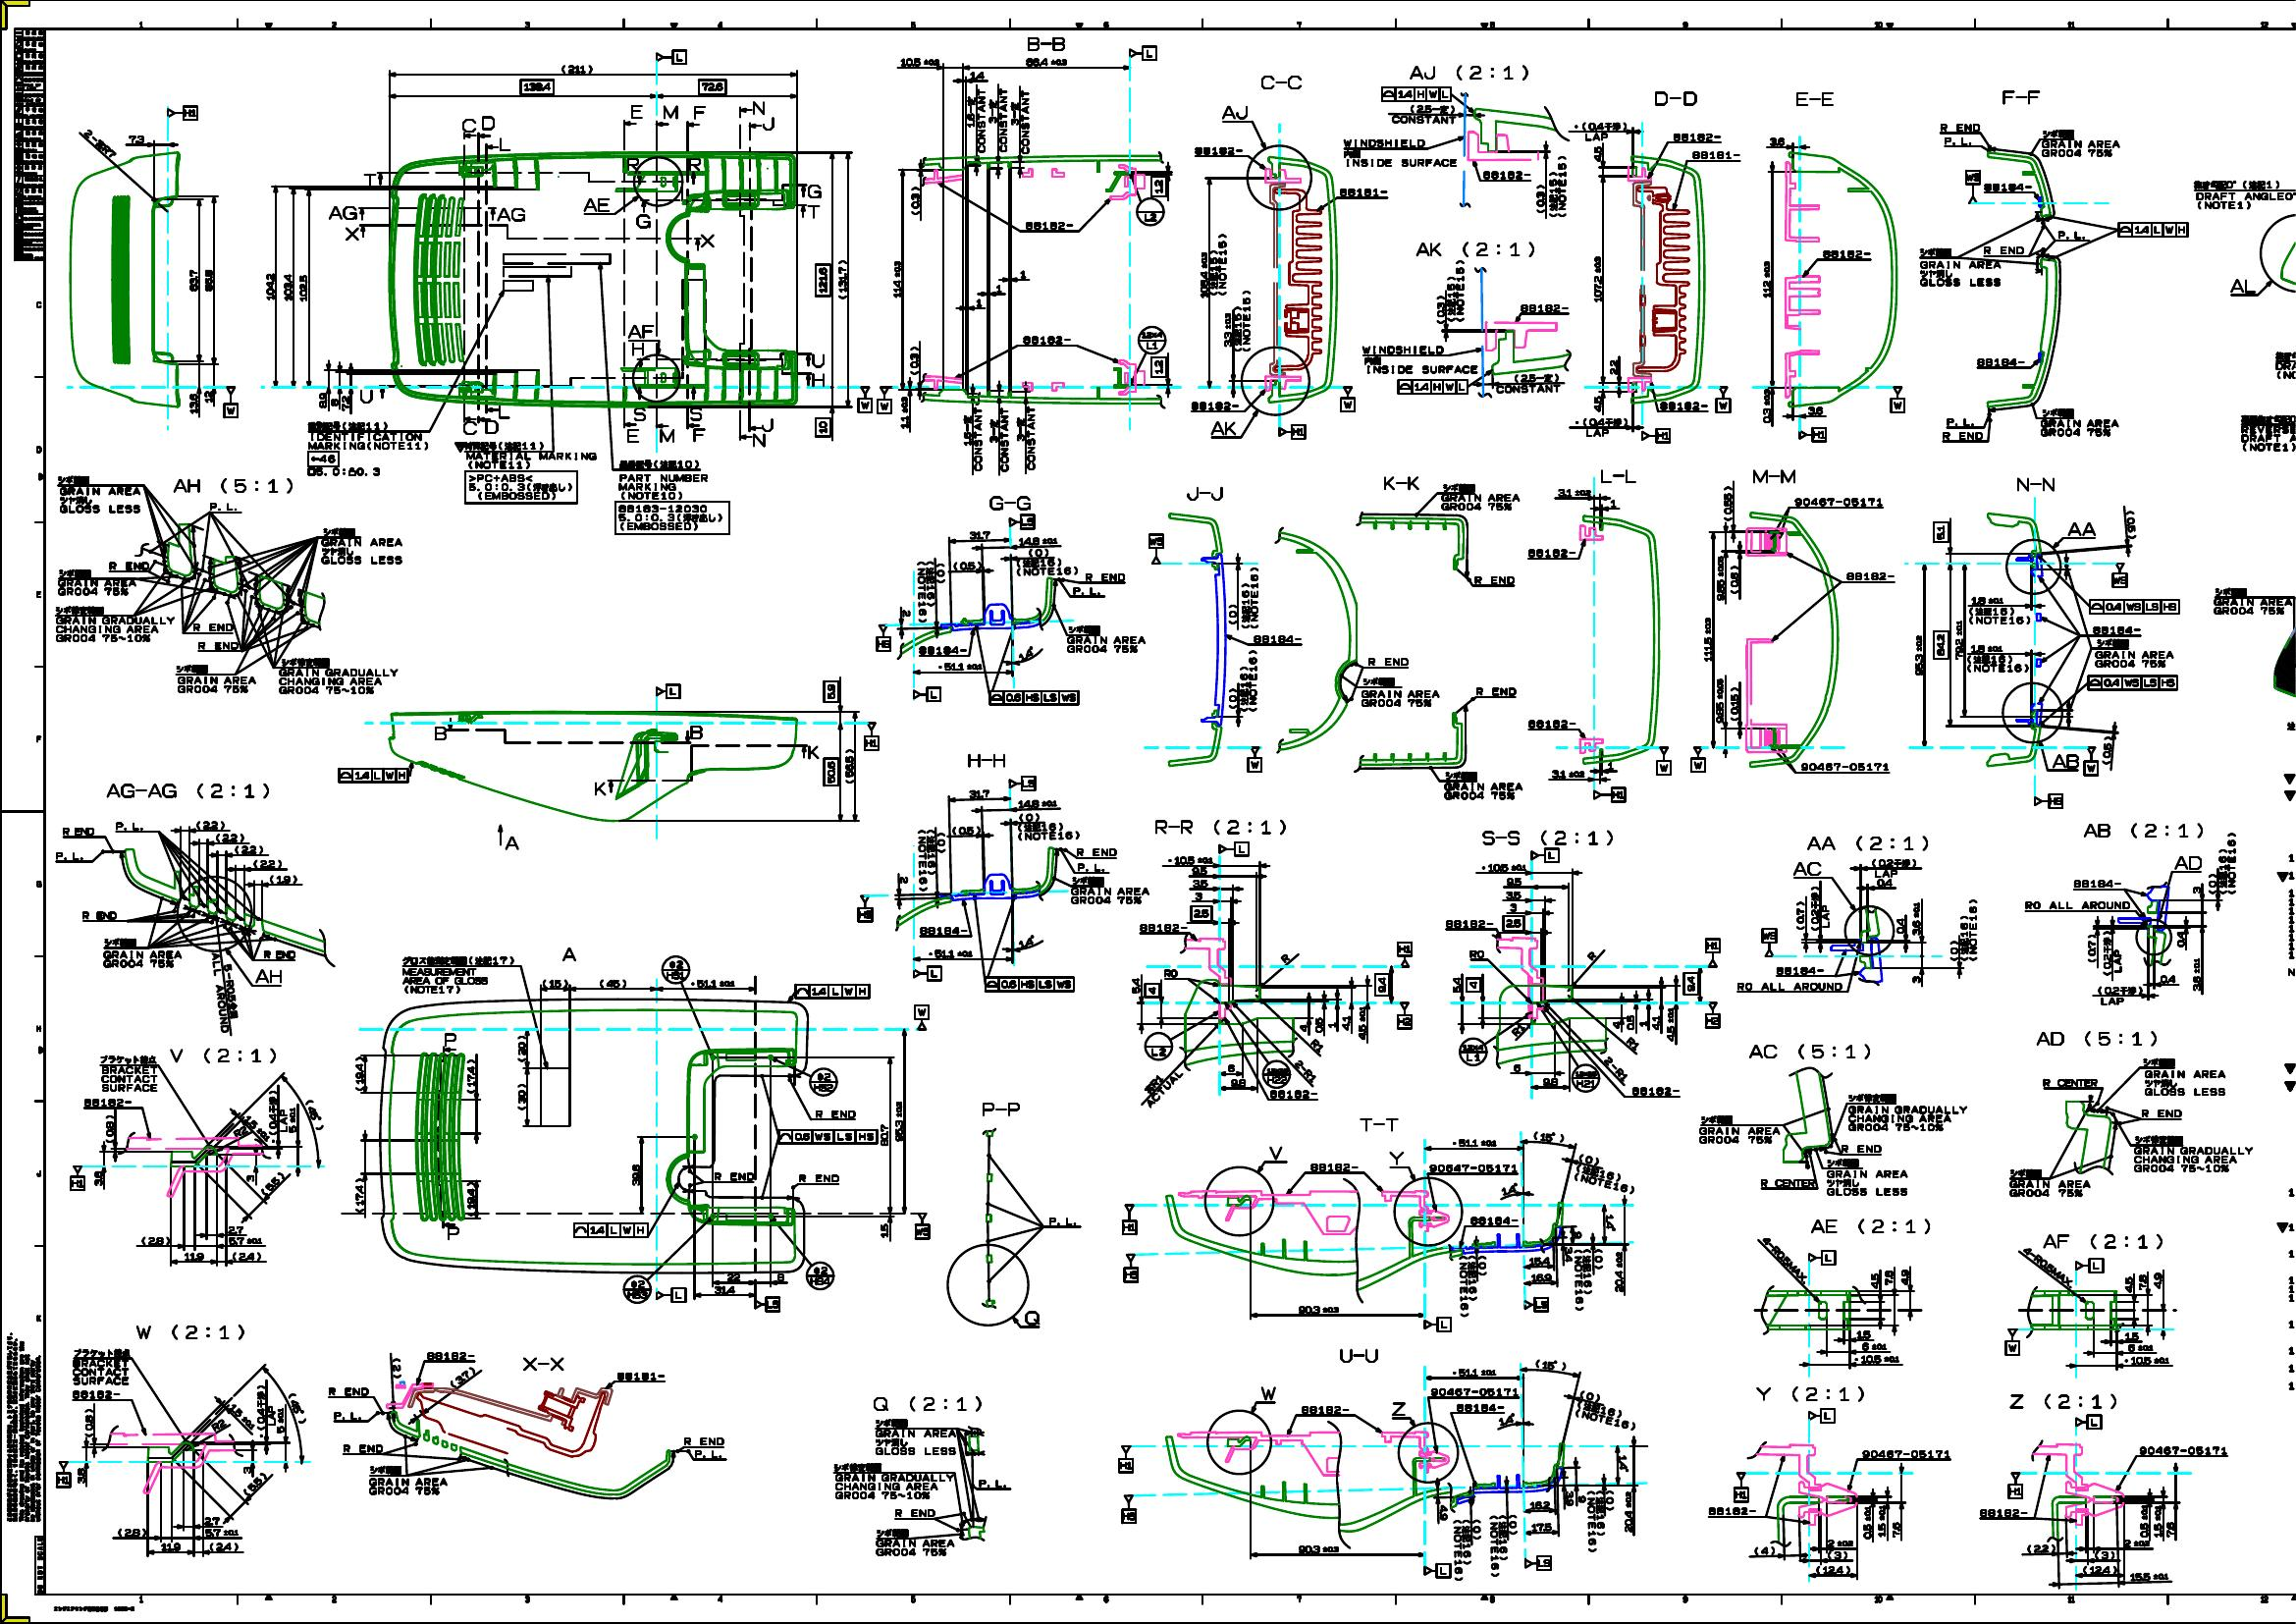anntotation_text: (451, 438, 597, 506), (613, 457, 731, 534), (306, 420, 429, 478), (4, 1332, 40, 1522), (1846, 1091, 1969, 1132), (2133, 1134, 2254, 1174), (279, 657, 399, 696), (54, 606, 177, 643), (833, 1461, 956, 1497), (402, 956, 515, 995), (1342, 137, 1458, 169), (2141, 1056, 2227, 1098), (104, 780, 272, 801), (1360, 344, 1477, 374), (1918, 246, 2001, 288), (56, 473, 141, 513), (2192, 179, 2296, 211), (1825, 1158, 1910, 1197), (873, 1417, 956, 1455), (321, 526, 404, 564), (2040, 406, 2122, 441), (1151, 817, 1288, 838), (2212, 584, 2296, 617), (1442, 768, 1523, 801), (2092, 636, 2175, 668), (2083, 819, 2206, 840), (1695, 1114, 1781, 1144), (1070, 875, 1151, 907), (102, 937, 183, 968), (97, 1053, 160, 1093), (1809, 1216, 1929, 1237), (56, 568, 139, 598), (2008, 1167, 2090, 1197), (1360, 677, 1440, 707), (367, 1464, 448, 1494), (2041, 128, 2122, 158), (2034, 1028, 2159, 1048), (1412, 239, 1535, 258), (1407, 63, 1530, 83), (2041, 1232, 2164, 1251), (2240, 413, 2296, 455), (1481, 830, 1614, 847), (174, 664, 256, 692), (873, 1527, 956, 1555), (70, 1348, 130, 1387), (1439, 482, 1518, 510), (1751, 1383, 1866, 1403), (170, 476, 295, 494), (1748, 1044, 1873, 1062), (165, 1044, 278, 1063), (1066, 626, 1147, 652), (871, 1394, 984, 1411), (1806, 835, 1931, 851), (2008, 1392, 2119, 1410), (134, 1323, 244, 1341), (778, 1127, 878, 1144), (214, 951, 235, 1032), (2087, 673, 2178, 691), (989, 691, 1080, 707), (982, 975, 1073, 991), (2089, 599, 2180, 615), (1231, 286, 1253, 353), (1015, 404, 1036, 471), (966, 88, 987, 155), (1451, 1519, 1472, 1584), (1488, 1513, 1509, 1578), (1391, 104, 1455, 125), (1572, 1169, 1635, 1190), (1238, 647, 1258, 714), (1012, 88, 1031, 155), (917, 826, 936, 893), (1015, 557, 1080, 576), (1495, 373, 1560, 392), (1446, 258, 1465, 323), (1209, 230, 1228, 295), (991, 406, 1010, 471), (964, 408, 984, 473), (1959, 896, 1978, 961), (1397, 378, 1467, 395), (1574, 1248, 1593, 1311), (1458, 1255, 1477, 1318), (915, 559, 935, 622), (1240, 566, 1260, 629), (1586, 1489, 1606, 1552), (1967, 606, 2031, 626), (1548, 155, 1567, 216), (1574, 1406, 1635, 1425), (1572, 415, 1628, 436), (1572, 120, 1628, 141), (2219, 831, 2236, 898), (2022, 900, 2131, 910), (2136, 1443, 2229, 1455), (1017, 823, 1082, 840), (1966, 656, 2031, 673), (1736, 981, 1843, 991), (337, 766, 408, 782), (1381, 86, 1451, 102), (989, 88, 1007, 151), (1426, 1162, 1516, 1174), (1860, 1448, 1950, 1461), (794, 984, 871, 998), (2117, 221, 2185, 237), (1430, 1385, 1518, 1397), (573, 1223, 648, 1237), (1133, 1074, 1188, 1093), (255, 1383, 274, 1438), (267, 1090, 286, 1144), (2097, 984, 2143, 1007), (805, 1260, 836, 1292), (2101, 930, 2122, 975), (1750, 466, 1799, 485), (1456, 1035, 1488, 1065), (1570, 1062, 1600, 1093), (622, 1274, 653, 1304), (1794, 496, 1883, 506), (1809, 886, 1830, 930), (1651, 88, 1699, 107), (808, 1065, 838, 1095), (1871, 858, 1917, 877), (661, 954, 689, 984), (1137, 325, 1166, 353), (1137, 197, 1165, 227), (1144, 1032, 1173, 1060), (1261, 1058, 1291, 1086), (1258, 74, 1303, 91), (1799, 763, 1890, 772), (1999, 88, 2040, 107), (1249, 633, 1303, 647), (964, 750, 1007, 768), (1792, 90, 1834, 107), (2275, 348, 2296, 383), (1688, 148, 1739, 162), (1358, 1116, 1398, 1134), (980, 1100, 1021, 1118), (2015, 475, 2055, 492), (1337, 1346, 1381, 1362), (1760, 1178, 1816, 1190), (1186, 485, 1224, 503), (1026, 35, 1065, 53), (1843, 569, 1897, 582), (1751, 1255, 1815, 1265), (522, 1355, 564, 1371), (1822, 248, 1869, 262), (917, 643, 970, 656), (1599, 466, 1635, 483), (987, 496, 1033, 510), (2017, 1260, 2076, 1271), (1518, 302, 1569, 315), (1481, 169, 1532, 181), (1189, 399, 1240, 411), (1021, 334, 1072, 346), (1708, 1504, 1758, 1517), (1630, 1084, 1681, 1097), (2073, 877, 2124, 889), (1657, 399, 1708, 411), (1383, 475, 1421, 490), (2227, 278, 2259, 297), (1527, 547, 1576, 559), (1022, 220, 1072, 232), (2041, 1077, 2097, 1088), (655, 47, 689, 65), (494, 206, 527, 223), (53, 1605, 135, 1612), (1147, 533, 1165, 564), (1732, 1471, 1750, 1503), (167, 104, 199, 121), (255, 967, 283, 986), (105, 559, 149, 571), (1472, 575, 1516, 587), (1982, 244, 2025, 257), (1193, 146, 1244, 156), (1337, 186, 1388, 197), (1455, 1403, 1505, 1413), (1774, 965, 1825, 975), (615, 1369, 666, 1380), (655, 1287, 689, 1302), (1121, 1204, 1138, 1234), (912, 685, 942, 703), (581, 197, 611, 214), (2050, 752, 2080, 770), (2034, 791, 2064, 808), (1527, 719, 1576, 729), (1075, 845, 1117, 858), (917, 924, 966, 935), (1138, 923, 1188, 933), (1300, 1404, 1349, 1415), (1268, 1088, 1318, 1098), (1444, 917, 1493, 928), (425, 1350, 474, 1360), (72, 1388, 121, 1399), (1672, 132, 1722, 142), (1983, 181, 2032, 192), (1941, 431, 1983, 443), (35, 1536, 44, 1594), (1470, 1214, 1518, 1225), (1593, 786, 1625, 801), (2092, 624, 2140, 634), (1655, 747, 1672, 775), (1339, 385, 1356, 413), (1209, 420, 1237, 438), (875, 385, 892, 413), (856, 895, 873, 923), (2006, 1471, 2024, 1499), (1808, 1406, 1836, 1424), (2075, 1257, 2103, 1274), (195, 640, 241, 650), (682, 1436, 727, 1446), (1688, 747, 1708, 772), (79, 909, 118, 921), (1219, 842, 1249, 858), (1121, 1494, 1137, 1524), (1760, 928, 1776, 958), (913, 1211, 929, 1241), (329, 204, 358, 220), (1966, 169, 1980, 202), (873, 624, 891, 650), (1474, 685, 1518, 696), (2003, 1329, 2020, 1355), (813, 1109, 857, 1120), (796, 1172, 840, 1183), (754, 1295, 780, 1313), (892, 1506, 936, 1517), (327, 1387, 371, 1397), (54, 1461, 72, 1487), (627, 322, 653, 339), (1307, 1162, 1358, 1171), (1975, 357, 2025, 366), (1423, 1316, 1451, 1332), (863, 722, 878, 750), (1008, 513, 1036, 529), (1084, 571, 1126, 582), (1367, 656, 1409, 666), (1128, 46, 1156, 62), (1008, 775, 1036, 791), (913, 965, 942, 981), (1117, 1445, 1133, 1473), (2173, 854, 2201, 870), (2141, 1107, 2184, 1118), (1841, 1142, 1883, 1153), (1808, 1250, 1836, 1265), (913, 1004, 929, 1032), (341, 1443, 383, 1454), (223, 385, 237, 417), (655, 682, 680, 700), (1245, 747, 1263, 772), (69, 1165, 86, 1190), (713, 1171, 754, 1181), (191, 622, 232, 633), (1939, 121, 1980, 132), (1704, 937, 1718, 967), (1792, 861, 1822, 875), (1523, 1297, 1549, 1313), (1221, 105, 1247, 121), (1279, 424, 1305, 439), (1397, 1002, 1412, 1028), (1980, 1508, 2027, 1517), (1423, 1562, 1449, 1578), (1525, 1555, 1551, 1571), (2076, 1413, 2103, 1429), (1715, 387, 1730, 413), (1070, 584, 1103, 596), (1123, 1253, 1137, 1281), (857, 385, 871, 413), (1530, 847, 1558, 861), (2068, 522, 2096, 536), (2083, 747, 2097, 775), (1075, 861, 1107, 874), (1397, 942, 1412, 967), (977, 1478, 1008, 1490), (330, 1410, 362, 1422), (264, 947, 295, 960), (750, 429, 769, 448), (81, 1098, 134, 1106), (1706, 1000, 1720, 1026), (1643, 429, 1669, 443), (1799, 427, 1825, 441), (1890, 387, 1904, 413), (114, 819, 144, 831), (1047, 1216, 1080, 1227), (2055, 228, 2089, 239), (61, 824, 95, 835), (694, 1446, 722, 1459), (2113, 562, 2127, 587), (808, 350, 826, 369), (480, 112, 497, 132), (692, 104, 710, 123), (625, 427, 643, 446), (689, 424, 706, 443), (761, 417, 778, 436), (207, 501, 239, 511), (1941, 135, 1973, 146), (1945, 417, 1975, 427), (53, 849, 83, 859), (444, 1225, 462, 1243), (441, 1032, 458, 1049), (460, 114, 478, 132), (627, 104, 645, 121), (662, 104, 680, 121), (750, 98, 768, 116), (699, 232, 717, 250), (362, 170, 379, 188), (481, 420, 499, 438), (495, 404, 513, 422), (629, 341, 646, 359), (689, 404, 706, 422), (460, 417, 476, 436), (659, 425, 675, 445), (1388, 1149, 1405, 1165), (1024, 1309, 1040, 1327), (432, 724, 448, 742), (806, 181, 822, 199), (806, 202, 822, 220), (810, 371, 826, 388), (1260, 1385, 1275, 1403), (495, 135, 511, 153), (344, 225, 360, 243), (761, 114, 776, 132), (687, 155, 703, 172), (625, 156, 641, 174), (634, 213, 650, 230), (358, 387, 374, 404), (632, 406, 648, 424), (1267, 1144, 1282, 1160), (504, 835, 520, 851), (687, 724, 703, 740), (1391, 1401, 1407, 1417), (560, 947, 578, 961), (806, 743, 820, 761), (594, 780, 608, 796)
dimension_text: (1700, 615, 1713, 664), (520, 77, 553, 95), (1166, 854, 1214, 866), (1451, 1137, 1497, 1149), (1451, 1366, 1497, 1378), (1592, 255, 1602, 304), (1198, 250, 1209, 297), (926, 947, 973, 958), (1623, 1489, 1634, 1534), (2124, 1355, 2170, 1366), (1481, 861, 1527, 872), (1932, 629, 1948, 659), (697, 79, 727, 95), (894, 1098, 905, 1142), (938, 661, 982, 671), (1915, 633, 1925, 677), (1024, 56, 1068, 67), (1729, 685, 1741, 722), (843, 747, 856, 784), (307, 1095, 320, 1132), (292, 1390, 304, 1427), (1298, 1543, 1340, 1554), (1296, 1302, 1339, 1313), (815, 264, 829, 295), (1015, 798, 1058, 808), (1549, 766, 1585, 779), (223, 1410, 258, 1422), (899, 56, 940, 67), (892, 258, 903, 299), (1716, 677, 1725, 724), (2152, 1504, 2164, 1538), (1876, 1504, 1888, 1538), (1969, 642, 2003, 654), (560, 62, 594, 74), (353, 1056, 365, 1090), (446, 1371, 480, 1383), (2080, 1564, 2119, 1575), (1953, 620, 1964, 659), (1614, 1248, 1623, 1294), (1853, 1353, 1899, 1362), (1716, 555, 1725, 601), (1149, 174, 1166, 197), (1189, 905, 1212, 923), (690, 979, 736, 988), (1815, 1564, 1852, 1575), (1794, 900, 1806, 932), (1665, 1005, 1676, 1042), (1556, 487, 1593, 497), (1723, 485, 1734, 522), (1374, 972, 1390, 997), (597, 977, 629, 990), (77, 139, 121, 148), (1862, 1504, 1873, 1540), (1911, 902, 1922, 937), (898, 395, 908, 431), (824, 758, 838, 784), (353, 1178, 364, 1213), (239, 1121, 274, 1132), (908, 346, 921, 376), (281, 272, 293, 302), (195, 819, 225, 831), (1017, 534, 1058, 543), (2127, 1571, 2168, 1580), (838, 258, 847, 299), (2191, 958, 2201, 991), (1599, 1063, 1632, 1074), (1969, 596, 2003, 606), (1435, 292, 1446, 325), (464, 1181, 474, 1214), (228, 1236, 262, 1246), (813, 417, 831, 436), (2140, 1504, 2150, 1536), (2025, 1543, 2057, 1554), (1683, 972, 1699, 993), (1151, 357, 1166, 378), (232, 844, 264, 854), (950, 826, 982, 837), (1502, 916, 1523, 932), (139, 1236, 170, 1246), (230, 1251, 262, 1262), (256, 1179, 288, 1190), (207, 1541, 239, 1552), (239, 1478, 271, 1489), (1534, 1359, 1565, 1369), (1762, 260, 1771, 297), (1223, 311, 1231, 348), (1358, 1004, 1367, 1040), (541, 977, 567, 990), (2101, 735, 2112, 765), (2126, 510, 2136, 540), (1535, 183, 1546, 213), (297, 272, 307, 302), (214, 833, 244, 844), (251, 858, 281, 868), (83, 1408, 93, 1438), (116, 1527, 146, 1538), (1762, 388, 1771, 424), (466, 1058, 474, 1093), (1932, 522, 1948, 541), (2124, 1538, 2152, 1548), (1827, 1538, 1855, 1548), (2085, 933, 2096, 961), (265, 272, 276, 301), (910, 186, 921, 214), (269, 874, 297, 884), (516, 1083, 527, 1111), (515, 1033, 525, 1062), (104, 1114, 114, 1142), (204, 1527, 237, 1536), (1604, 1211, 1616, 1234), (390, 1357, 402, 1380), (1528, 1520, 1555, 1531), (1860, 1341, 1887, 1352), (1730, 564, 1739, 596), (1289, 1067, 1321, 1076), (274, 1408, 285, 1434), (824, 682, 838, 701), (1534, 1132, 1563, 1141), (952, 561, 982, 569), (1751, 1545, 1776, 1555), (1226, 689, 1238, 710), (878, 1123, 889, 1148), (631, 1162, 641, 1186), (1465, 977, 1481, 993), (2127, 1343, 2155, 1352), (2092, 1550, 2115, 1561), (1606, 1489, 1616, 1512), (1472, 1519, 1483, 1541), (1593, 1248, 1604, 1271), (188, 392, 199, 415), (188, 269, 199, 292), (1579, 1390, 1602, 1401), (1498, 1183, 1518, 1195), (1579, 1153, 1600, 1164), (1530, 1272, 1551, 1283), (1477, 1255, 1488, 1276), (1948, 940, 1959, 961), (936, 831, 947, 852), (1767, 135, 1785, 148), (2136, 1272, 2147, 1292), (1017, 649, 1036, 659), (1017, 937, 1036, 947), (76, 1466, 86, 1485), (1497, 1415, 1516, 1425), (1825, 1550, 1848, 1559), (1509, 1513, 1518, 1536), (1527, 1257, 1549, 1265), (2208, 872, 2217, 895), (1026, 548, 1049, 557), (1228, 603, 1237, 626), (204, 269, 213, 292), (1017, 812, 1040, 821), (713, 1285, 736, 1294), (1145, 982, 1159, 997), (1618, 1454, 1628, 1471), (1855, 1329, 1873, 1339), (1869, 1272, 1880, 1290), (1899, 1269, 1910, 1287), (1895, 916, 1906, 933), (1625, 1014, 1635, 1032), (936, 562, 945, 584), (970, 531, 991, 540), (126, 134, 144, 144), (316, 392, 327, 410), (968, 789, 989, 798), (1451, 975, 1462, 993), (183, 1251, 204, 1260), (232, 1127, 249, 1137), (211, 1420, 228, 1431), (160, 1543, 181, 1552), (1530, 1501, 1549, 1510), (1440, 1503, 1449, 1522), (1563, 1244, 1572, 1264), (2124, 1274, 2133, 1294), (2152, 1271, 2161, 1290), (2177, 930, 2185, 949), (341, 394, 350, 413), (1883, 1269, 1894, 1285), (2159, 974, 2175, 984), (1163, 968, 1179, 979), (1469, 949, 1484, 960), (204, 1515, 220, 1526), (2166, 1520, 2175, 1538), (1892, 1520, 1901, 1538), (1565, 1490, 1574, 1508), (1651, 1014, 1660, 1032), (1593, 144, 1602, 162), (1609, 359, 1618, 376), (1191, 879, 1209, 888), (1131, 977, 1140, 995), (1314, 1016, 1323, 1033), (1509, 1026, 1527, 1035), (2124, 1332, 2140, 1341), (1876, 877, 1892, 886), (1625, 1040, 1641, 1049), (1808, 406, 1823, 415), (1191, 866, 1207, 875), (1309, 1042, 1325, 1051), (1230, 1077, 1245, 1086), (1505, 877, 1521, 886), (1505, 891, 1521, 900), (93, 1171, 102, 1186), (228, 1225, 244, 1234), (1593, 394, 1600, 413), (1281, 953, 1291, 965), (970, 70, 984, 79), (1342, 1016, 1351, 1030), (880, 1223, 889, 1237), (1911, 974, 1922, 984), (1017, 269, 1028, 279), (973, 297, 984, 308), (1226, 1062, 1237, 1072), (1586, 949, 1597, 960), (1542, 1077, 1558, 1084), (241, 1464, 251, 1475), (204, 390, 213, 402), (727, 1272, 740, 1281), (1611, 1019, 1621, 1028), (993, 283, 1003, 292), (898, 875, 908, 884), (1513, 1062, 1521, 1072), (246, 1174, 255, 1185), (1509, 902, 1516, 914), (1578, 1494, 1586, 1503), (2192, 886, 2201, 895), (1639, 1019, 1648, 1028), (901, 608, 910, 617), (1298, 1023, 1307, 1032), (776, 1272, 785, 1281), (1609, 497, 1616, 508), (330, 397, 337, 408), (1195, 893, 1203, 900), (1328, 1021, 1337, 1028), (1572, 1232, 1583, 1237), (1607, 761, 1613, 772)
object: (376, 995, 806, 1280), (386, 148, 799, 408), (921, 153, 1163, 404), (1275, 511, 1467, 773), (386, 710, 799, 823), (1163, 1429, 1565, 1534), (1165, 1190, 1565, 1290), (383, 1381, 676, 1503), (1781, 148, 1899, 411), (69, 148, 181, 408), (1744, 510, 1841, 768), (118, 847, 327, 956), (1578, 513, 1660, 766), (1985, 144, 2062, 413), (1625, 153, 1704, 402), (1263, 153, 1339, 404), (163, 522, 325, 627), (1166, 510, 1226, 770), (1985, 510, 2043, 766), (1182, 935, 1293, 1067), (1495, 935, 1607, 1063), (896, 844, 1058, 928), (899, 576, 1056, 656), (1758, 1445, 1860, 1543), (2032, 1443, 2126, 1540), (105, 1431, 237, 1497), (123, 1135, 262, 1199), (1781, 1069, 1836, 1165), (1467, 105, 1560, 162), (1484, 320, 1570, 374), (2115, 884, 2171, 961), (1829, 907, 1883, 982), (1765, 1288, 1852, 1332), (2029, 1290, 2119, 1332), (2064, 1100, 2115, 1171), (982, 1128, 996, 1306), (963, 1429, 986, 1538)
title_block: (12, 26, 46, 262)
